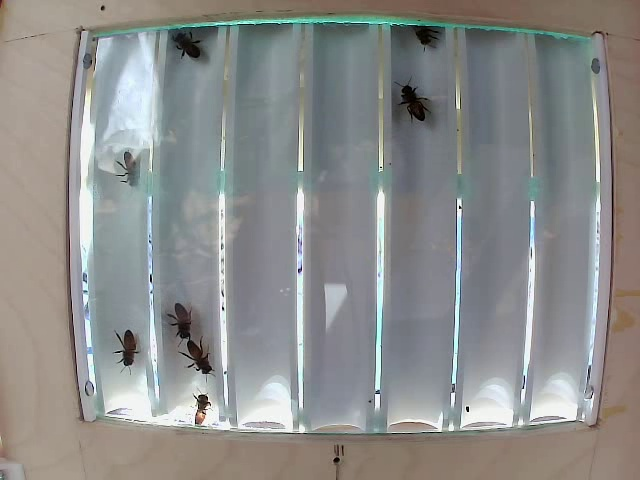bee: (165, 30, 214, 85), (179, 332, 220, 381), (114, 327, 151, 373), (392, 75, 422, 127), (164, 301, 200, 339), (117, 150, 146, 193)
